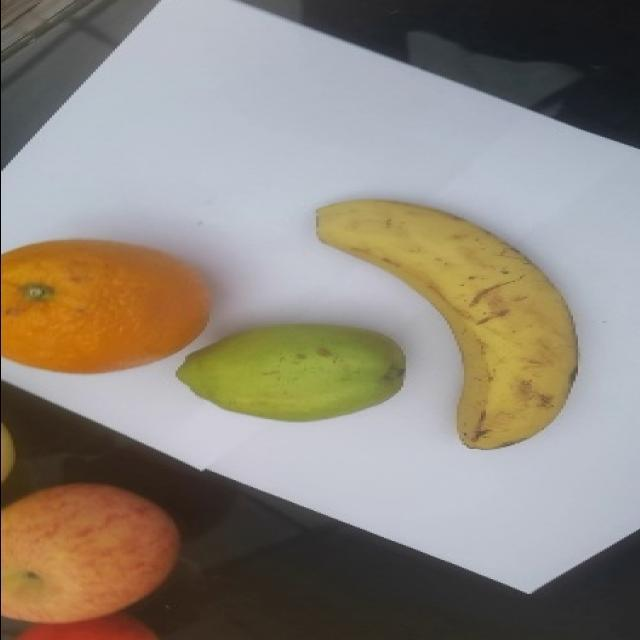Apple: (0, 481, 181, 624)
Banana: (314, 197, 579, 450)
Orange: (0, 237, 211, 374)
